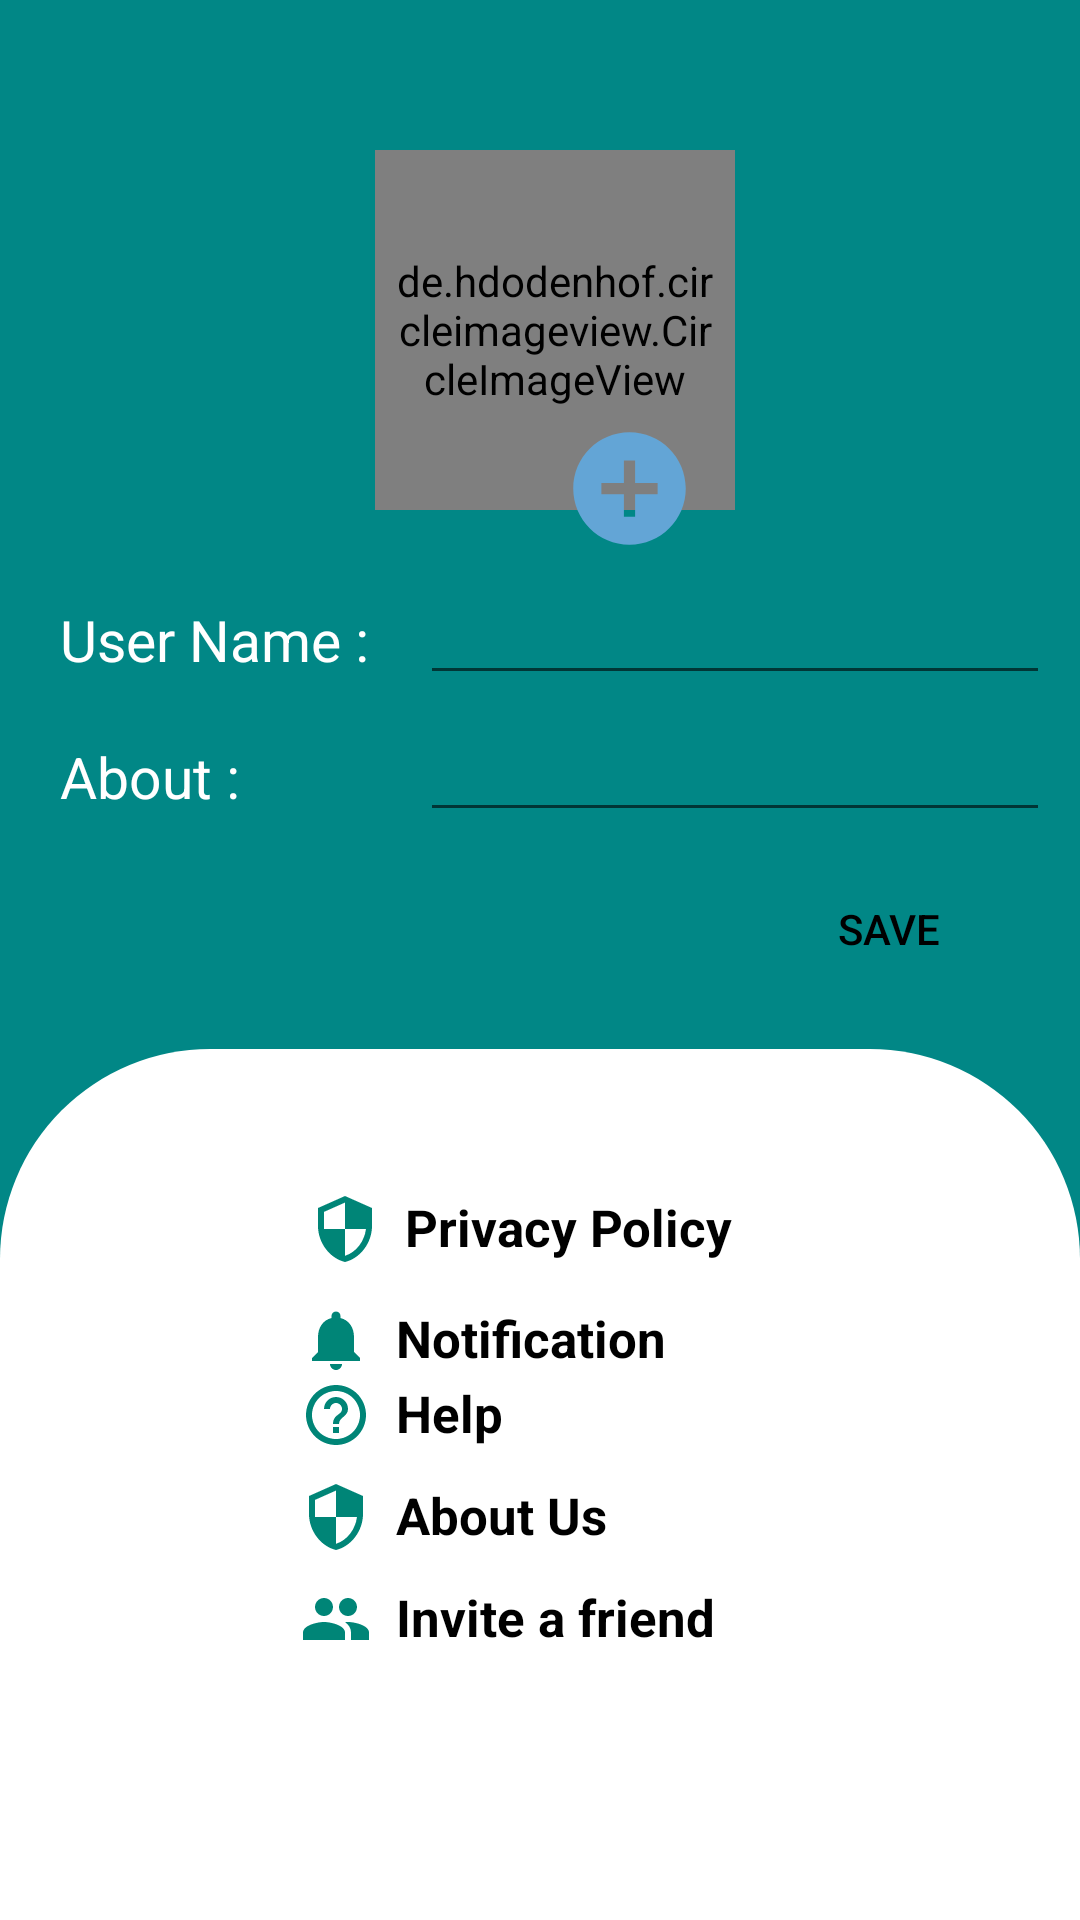

Icons on this 1080w x 1920h Android screen, each with the point to tap as (x=x, y=y):
add circle: (x=629, y=488)
security: (x=345, y=1229), (x=336, y=1517)
